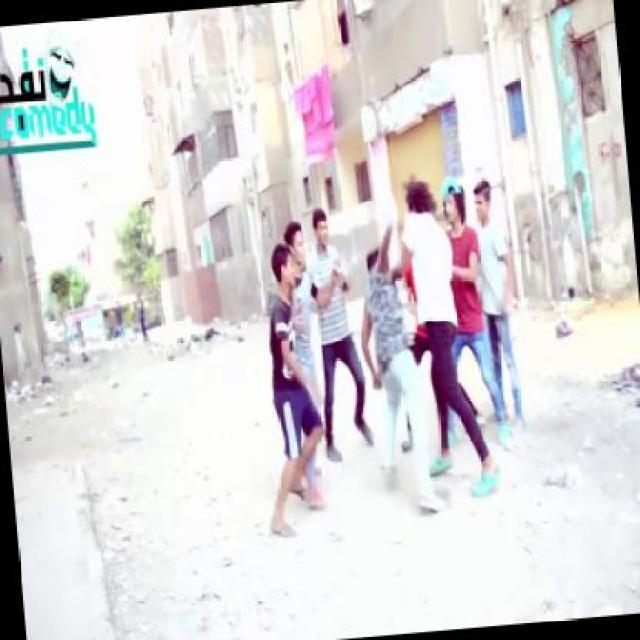fight: (352, 174, 492, 523)
non-fight: (255, 206, 338, 528), (304, 206, 376, 457), (466, 171, 528, 434)
